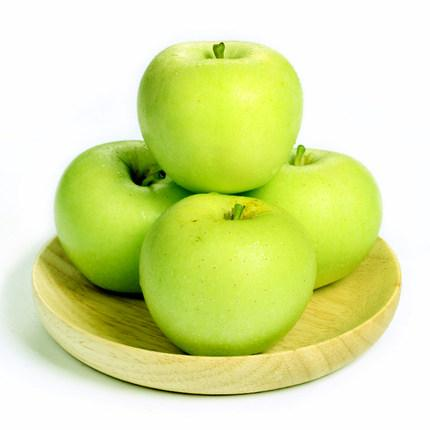unripe: (133, 189, 320, 360), (38, 132, 224, 297), (128, 30, 309, 196), (228, 142, 385, 294)
